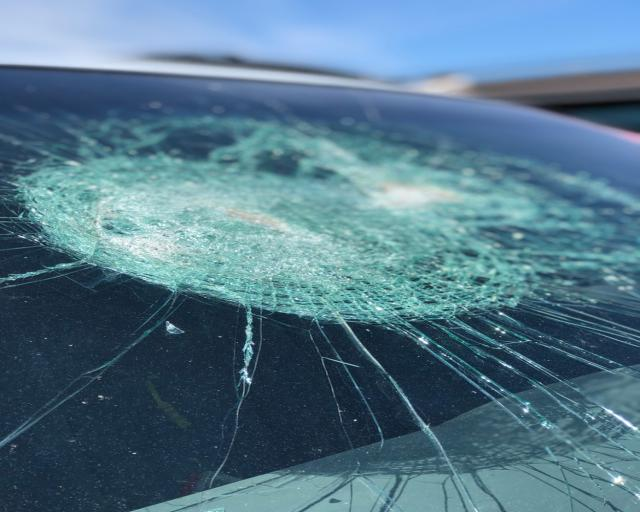glass shatter: (0, 66, 640, 512)
